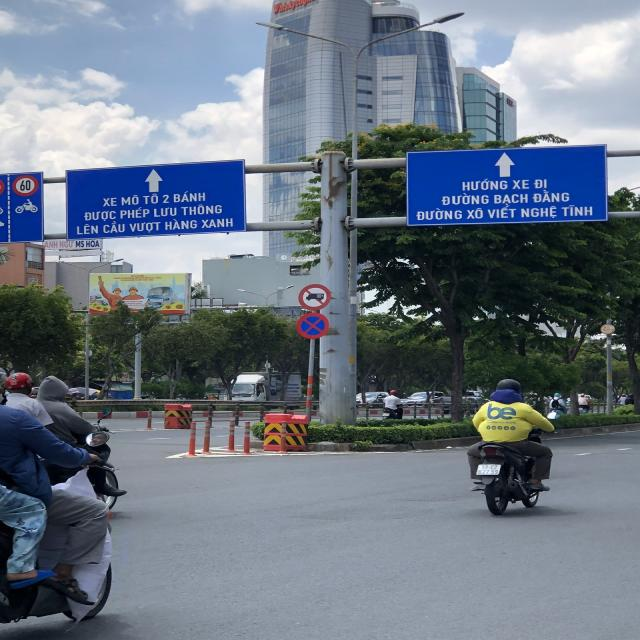Bien bao cam dung xe va do xe: (291, 312, 333, 345)
Bien bao cam xe oto tai: (296, 280, 335, 312)
Bien bao toc do toi da cho phep: (10, 171, 42, 196)
